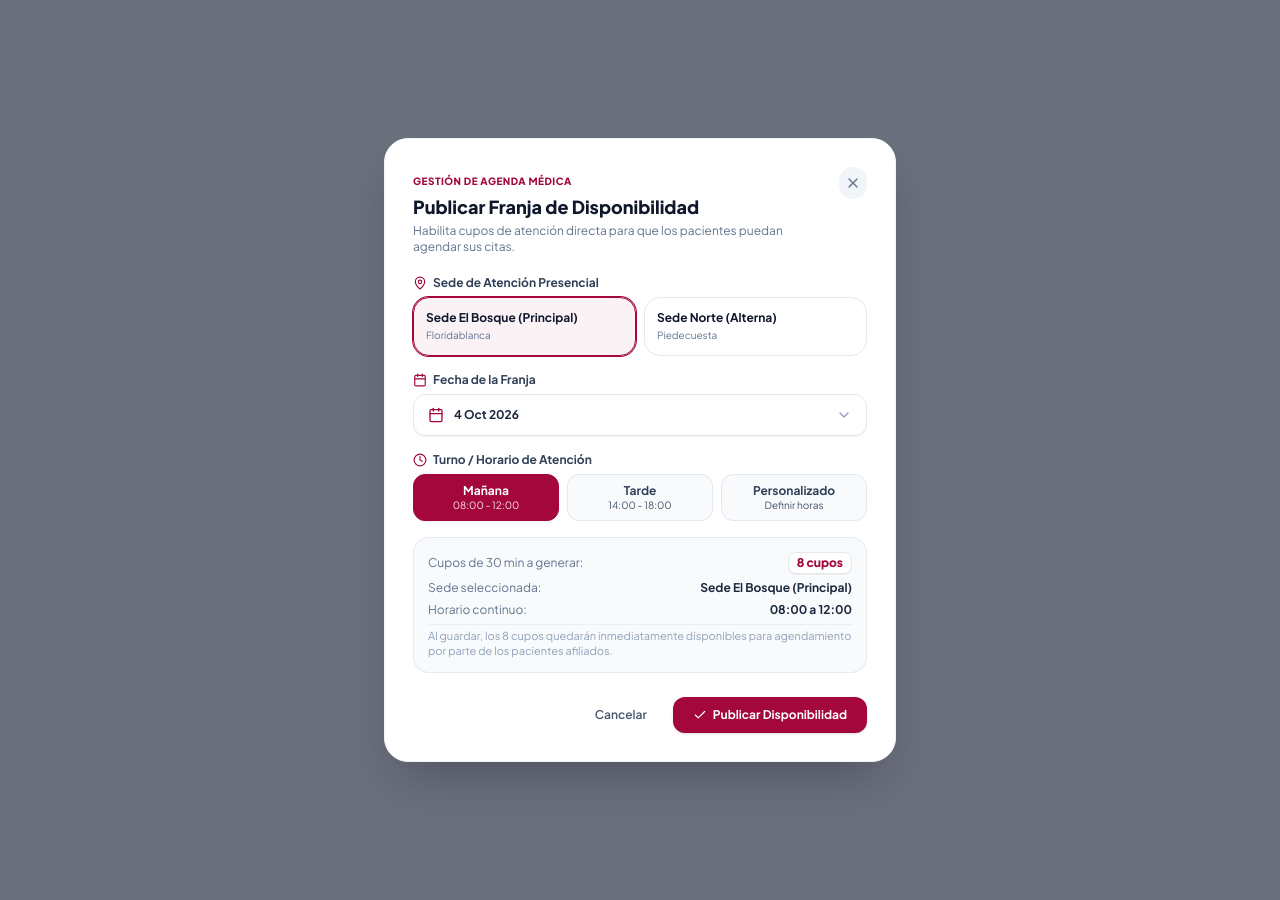
Doctor Availability Management (RF-08) › updates slot calculation dynamically when switching to afternoon preset
Click the button "Tarde 14:00 - 18:00": (640, 497) [567, 474, 713, 521]
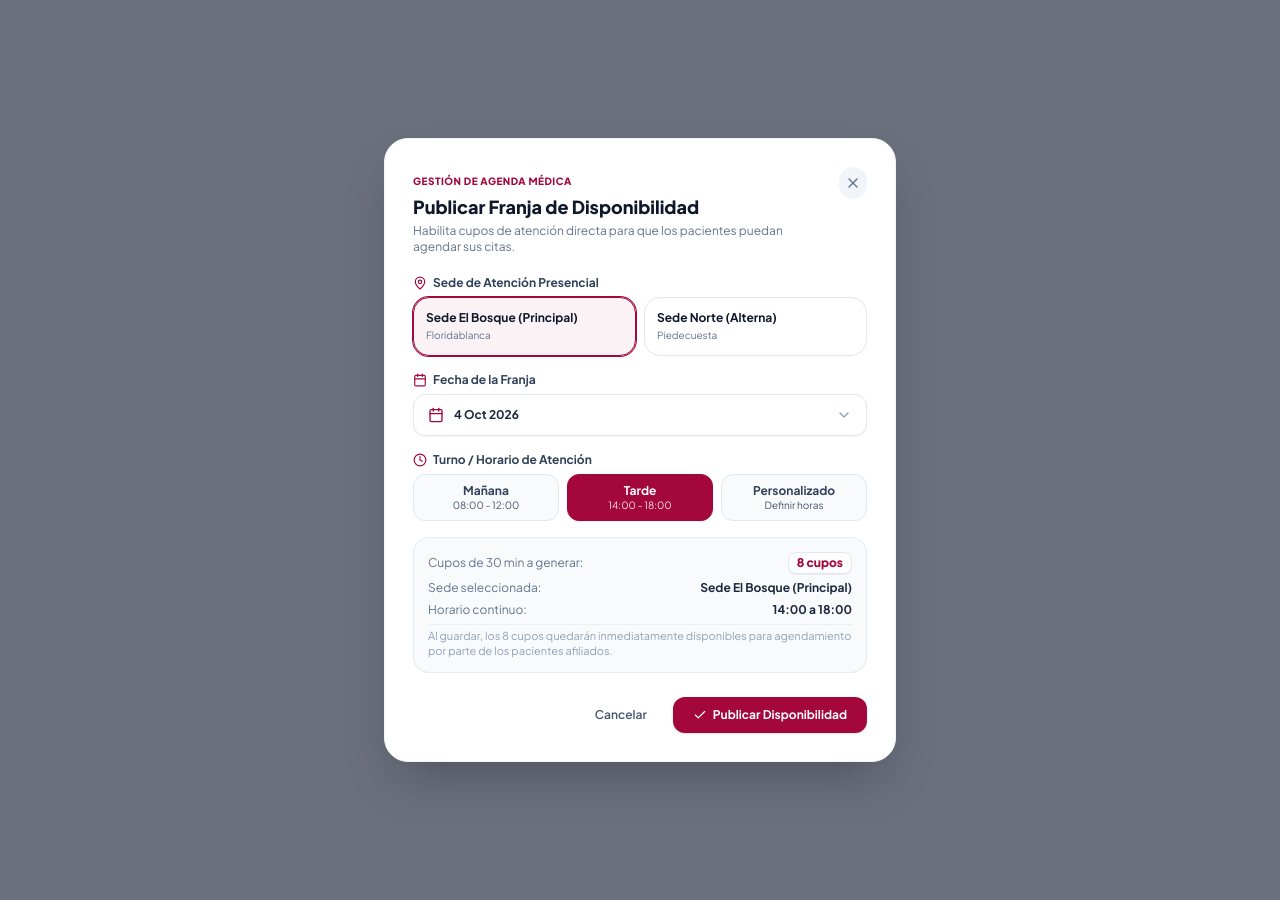
Expected: the text "8 cupos" is shown, [788, 552, 852, 574]
Now the text "14:00 a 18:00" is shown, box [773, 602, 852, 618]
